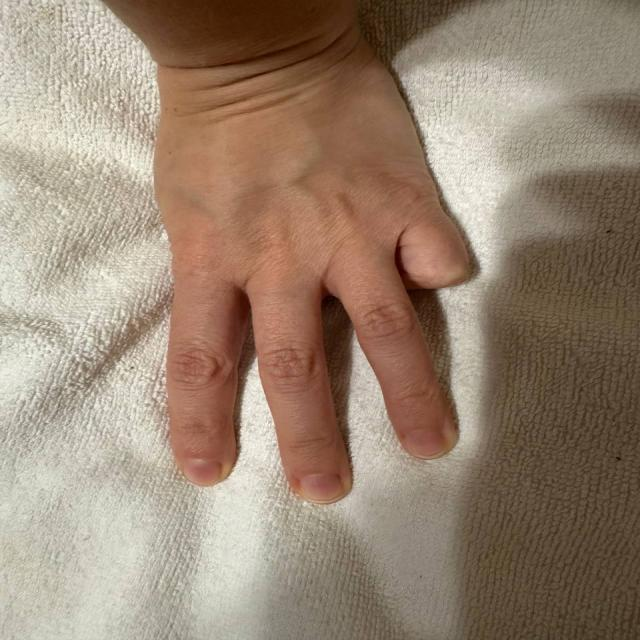m: (107, 110, 500, 510)
